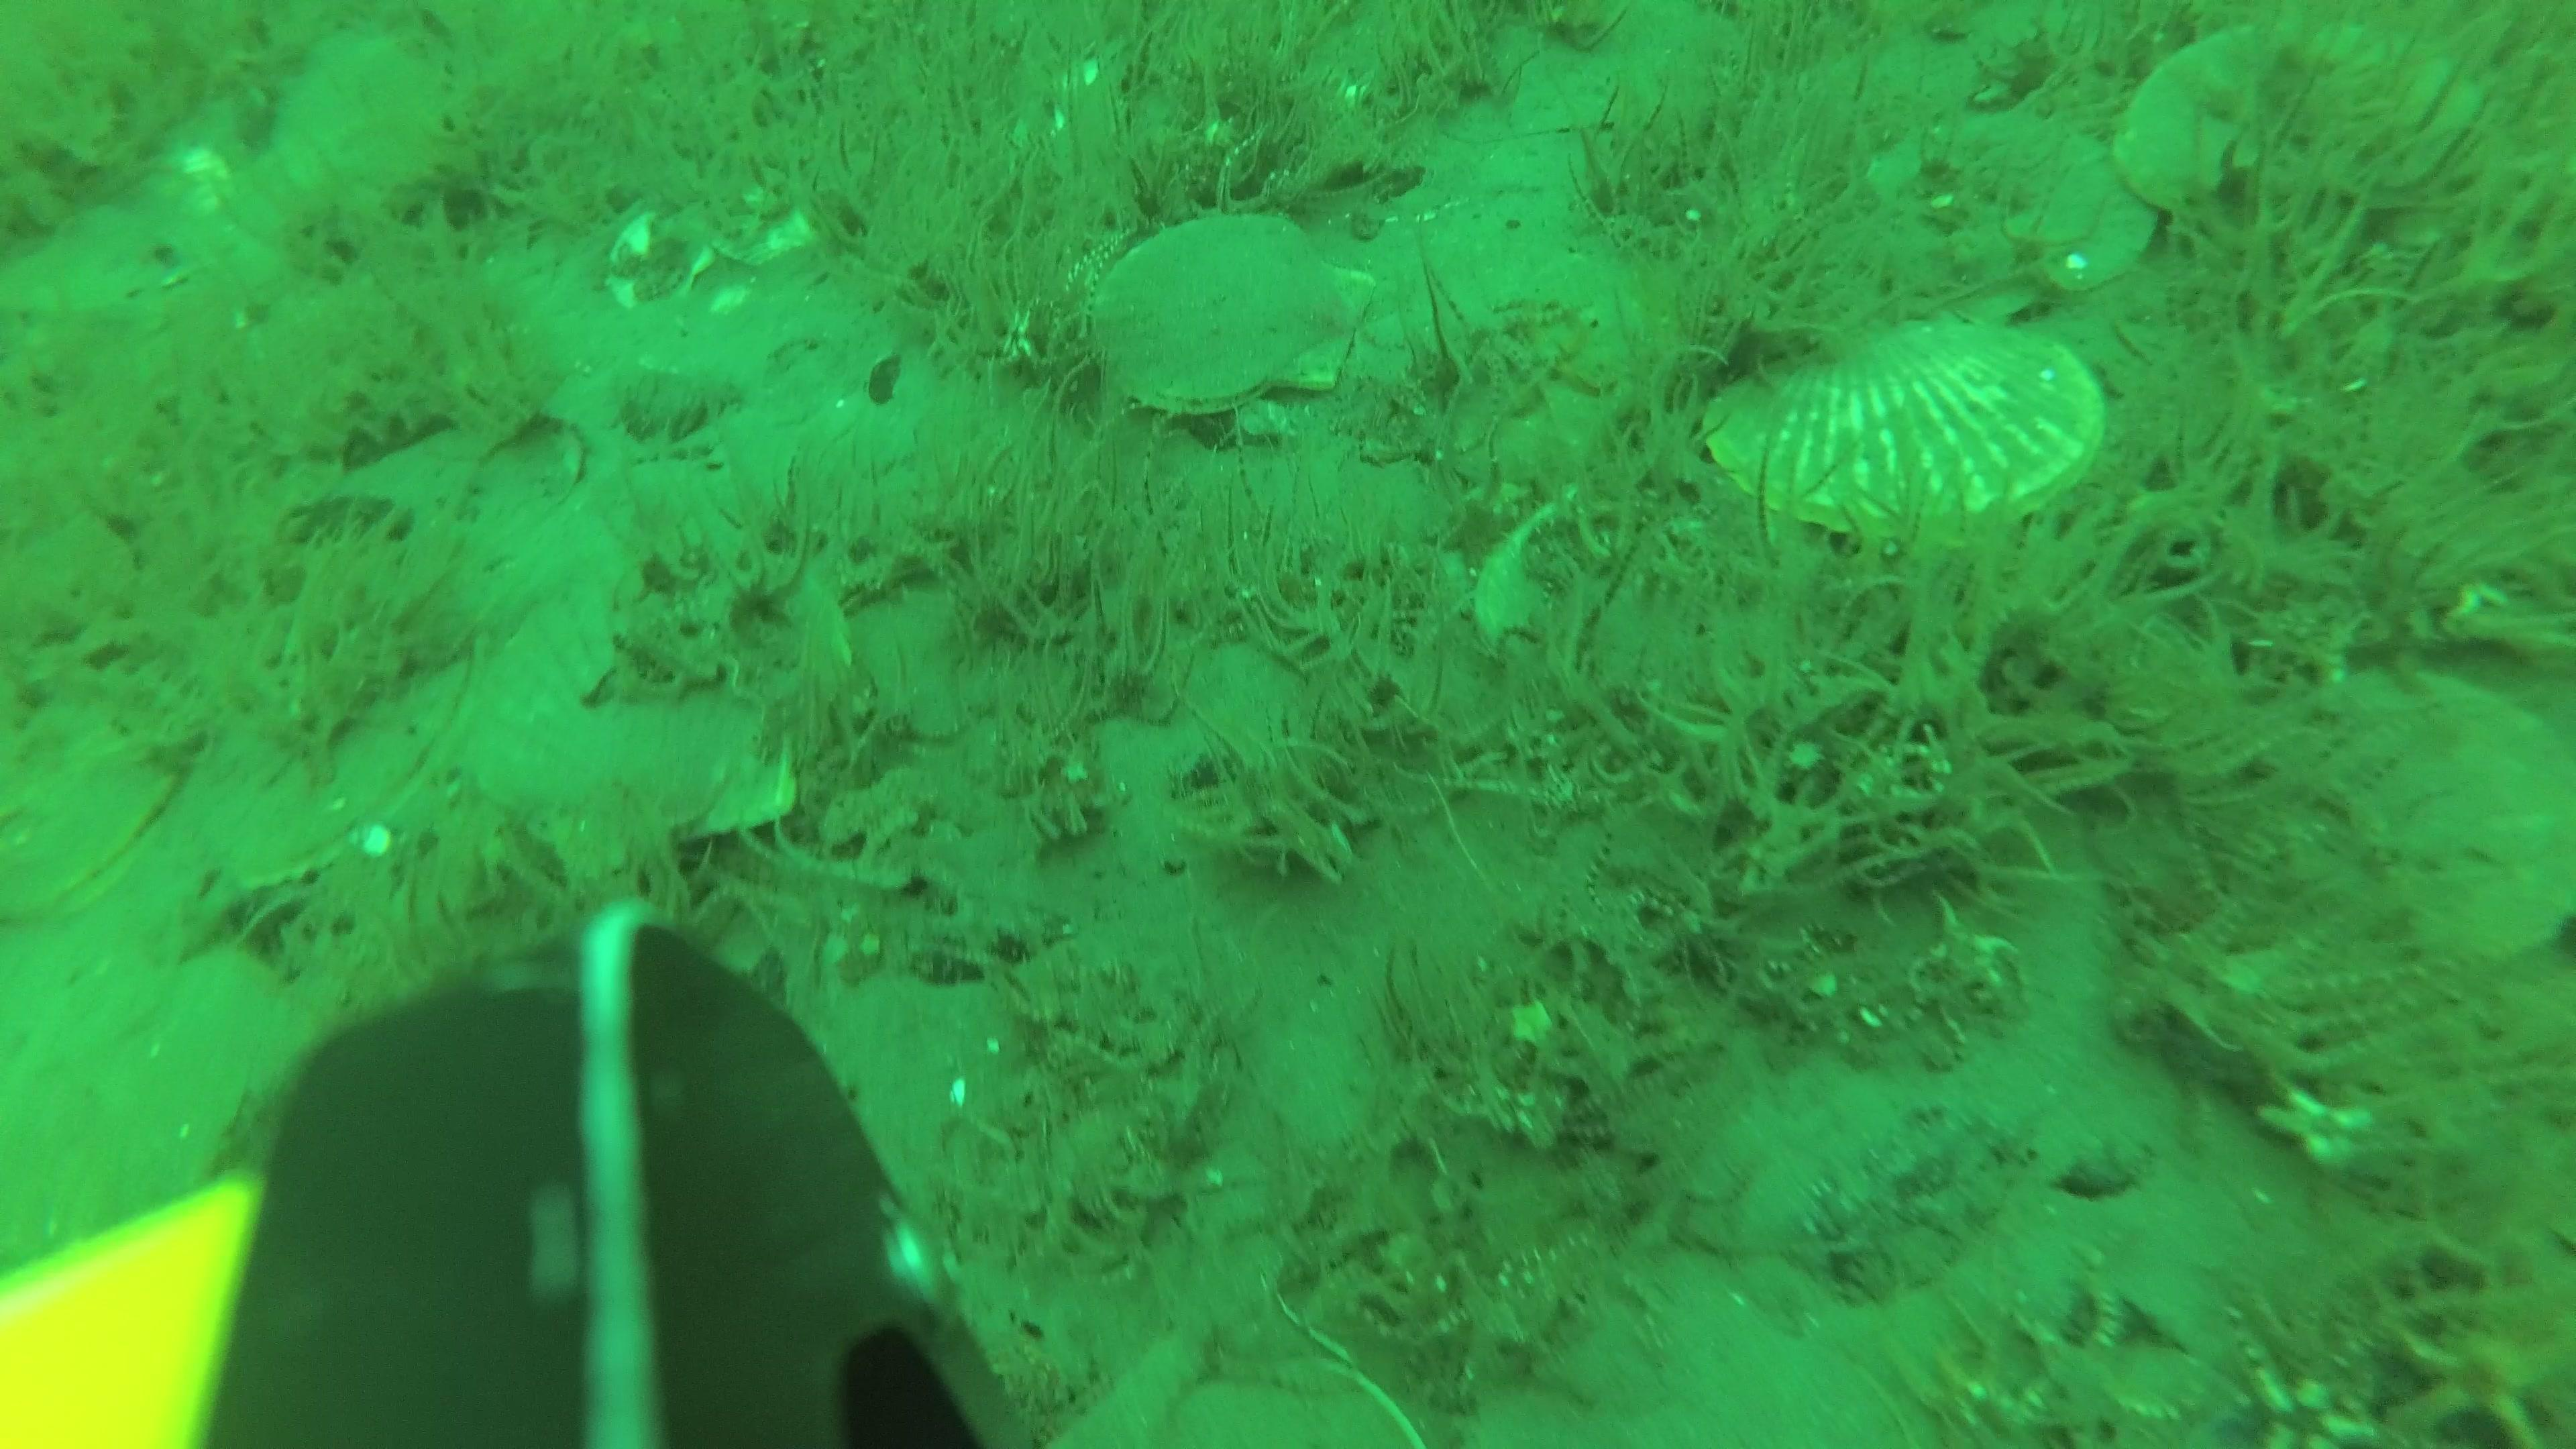scallop: (469, 556, 853, 872), (2284, 669, 2576, 968), (1709, 322, 2114, 518), (2111, 32, 2484, 230), (1090, 205, 1382, 409)
